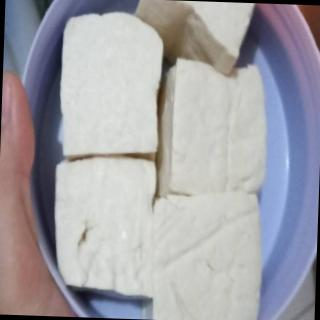Tahu: (41, 12, 276, 302)
